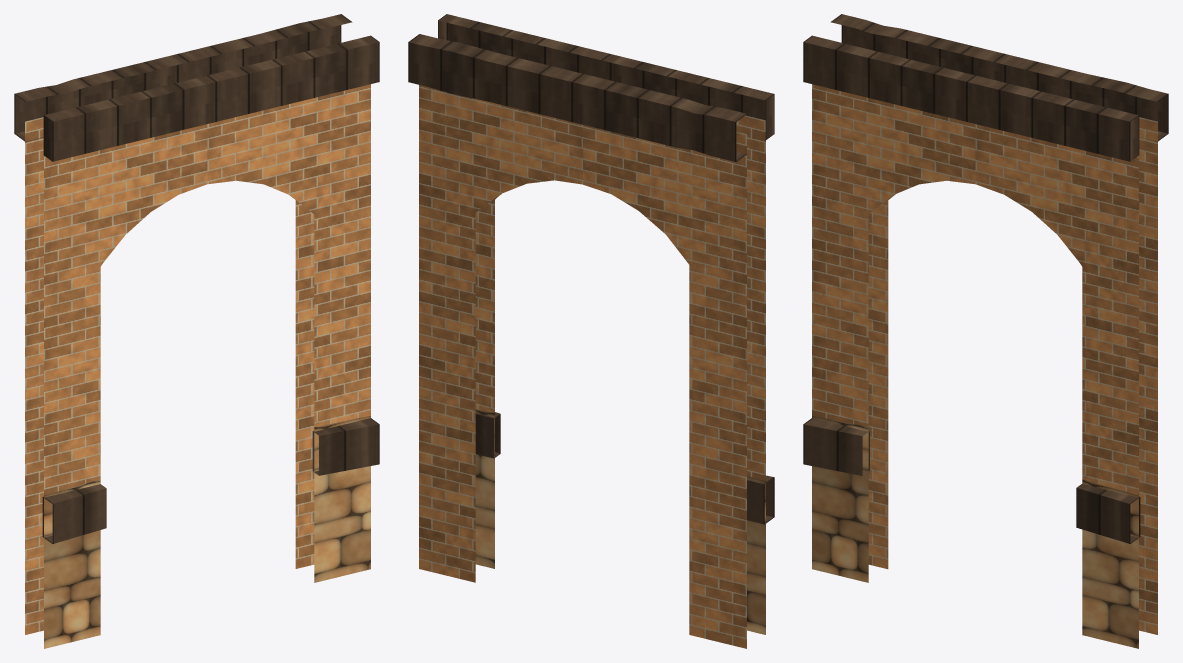
File: Wall_OchreBrick_Door_Round.gltf
3 renders of one model, left to right at view 1: azimuth 30°, elevation 25°; view 2: azimuth 150°, elevation 25°; view 3: azimuth 330°, elevation 25°, orthographic.
Parts seen in each view (by area): view 1: Wall_OchreBrick_Door_Round; view 2: Wall_OchreBrick_Door_Round; view 3: Wall_OchreBrick_Door_Round.
Part boxes in pixels (x1,y1,x2,y2): Wall_OchreBrick_Door_Round: [14, 14, 379, 648]; Wall_OchreBrick_Door_Round: [408, 14, 774, 648]; Wall_OchreBrick_Door_Round: [803, 14, 1168, 648].
Size of the model in its own units: 2 by 3.12 by 0.406.
Materials: 3 (3 with a texture image).
